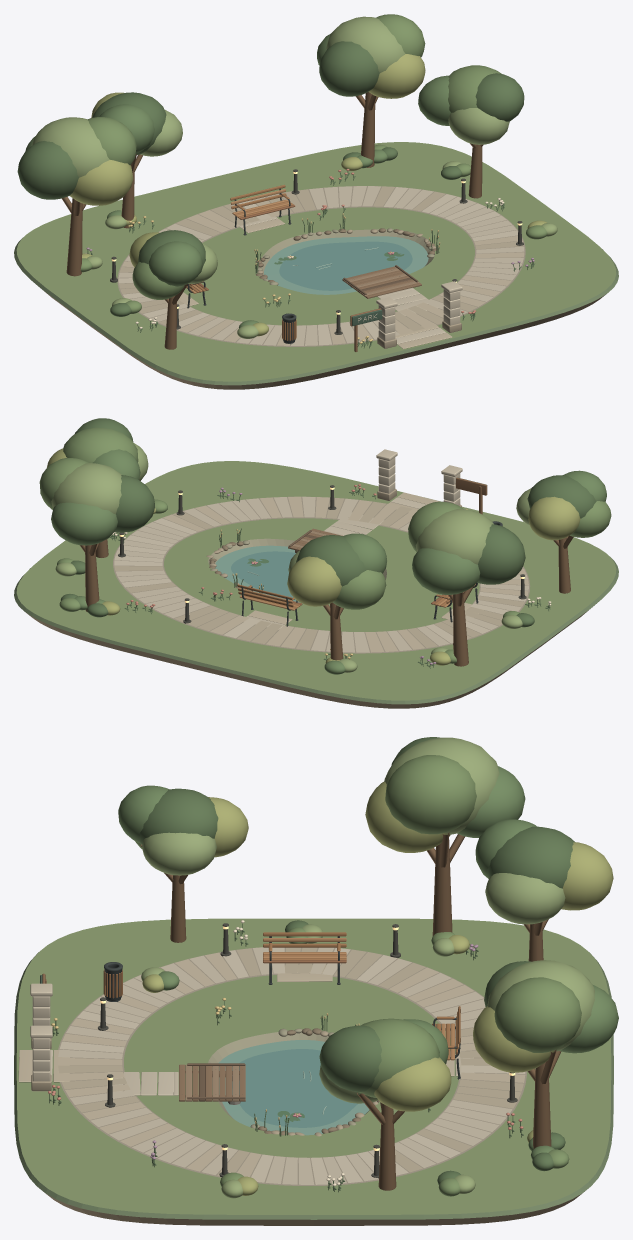
The model's file is park.glb.
3 views of the same model, one above another, from view 1: azimuth 30°, elevation 25°; view 2: azimuth 150°, elevation 25°; view 3: azimuth 270°, elevation 25° (orthographic). The views are drawn at different scales.
Parts seen in each view (by area): view 1: Park lawn and paths · Park · meadow green, Park trees and flowers · Park · canopy green 1, Park trees and flowers · Park · canopy green 3, Park lawn and paths · Park · pale stone 2, Park trees and flowers · Park · canopy green 2, Park trees and flowers · Park · canopy green 5, Park trees and flowers · Park · canopy green 4, Park lawn and paths · Park · pale stone 1, Pond, shore and lilies · Park · calm pond blue green, Park trees and flowers · Park · soft chestnut bark, Park lawn and paths · Park · pathway joints, Park lawn and paths · Park · pale stone 4 (+11 smaller); view 2: Park lawn and paths · Park · meadow green, Park trees and flowers · Park · canopy green 1, Park lawn and paths · Park · pale stone 2, Park trees and flowers · Park · canopy green 5, Park trees and flowers · Park · canopy green 2, Park trees and flowers · Park · canopy green 3, Park lawn and paths · Park · pale stone 1, Park trees and flowers · Park · canopy green 4, Park lawn and paths · Park · pale stone 4, Park lawn and paths · Park · pathway joints, Park trees and flowers · Park · soft chestnut bark, Park lawn and paths · Park · meadow edge (+11 smaller); view 3: Park lawn and paths · Park · meadow green, Park lawn and paths · Park · pale stone 2, Park trees and flowers · Park · canopy green 2, Park trees and flowers · Park · canopy green 3, Park trees and flowers · Park · canopy green 4, Park trees and flowers · Park · canopy green 1, Park lawn and paths · Park · pale stone 1, Park trees and flowers · Park · canopy green 5, Park lawn and paths · Park · pathway joints, Park trees and flowers · Park · soft chestnut bark, Pond, shore and lilies · Park · calm pond blue green, Park lawn and paths · Park · pale stone 4 (+11 smaller).
Boxes of the visible parts, box(x1,y1,x2,y2) form: Park lawn and paths · Park · meadow green: box(16, 142, 616, 381); Park trees and flowers · Park · canopy green 1: box(17, 41, 524, 316); Park trees and flowers · Park · canopy green 3: box(31, 16, 557, 338); Park lawn and paths · Park · pale stone 2: box(118, 186, 524, 345); Park trees and flowers · Park · canopy green 2: box(80, 14, 547, 313); Park trees and flowers · Park · canopy green 5: box(25, 34, 450, 328); Park trees and flowers · Park · canopy green 4: box(69, 54, 546, 336); Park lawn and paths · Park · pale stone 1: box(122, 197, 524, 349); Pond, shore and lilies · Park · calm pond blue green: box(279, 241, 412, 290); Park trees and flowers · Park · soft chestnut bark: box(62, 92, 483, 349); Park lawn and paths · Park · pathway joints: box(117, 186, 525, 346); Park lawn and paths · Park · pale stone 4: box(119, 186, 523, 331); Park lawn and paths · Park · meadow green: box(16, 461, 616, 700); Park trees and flowers · Park · canopy green 1: box(60, 418, 596, 627); Park lawn and paths · Park · pale stone 2: box(115, 496, 528, 652); Park trees and flowers · Park · canopy green 5: box(51, 449, 606, 674); Park trees and flowers · Park · canopy green 2: box(39, 427, 611, 663); Park trees and flowers · Park · canopy green 3: box(51, 443, 531, 672); Park lawn and paths · Park · pale stone 1: box(163, 492, 528, 652); Park trees and flowers · Park · canopy green 4: box(47, 448, 580, 665); Park lawn and paths · Park · pale stone 4: box(114, 498, 524, 649); Park lawn and paths · Park · pathway joints: box(113, 496, 530, 653); Park trees and flowers · Park · soft chestnut bark: box(80, 535, 573, 666); Park lawn and paths · Park · meadow edge: box(14, 557, 618, 704); Park lawn and paths · Park · meadow green: box(16, 918, 611, 1214); Park lawn and paths · Park · pale stone 2: box(58, 947, 512, 1184); Park trees and flowers · Park · canopy green 2: box(135, 755, 581, 1196); Park trees and flowers · Park · canopy green 3: box(141, 737, 594, 1198); Park trees and flowers · Park · canopy green 4: box(142, 781, 613, 1195); Park trees and flowers · Park · canopy green 1: box(139, 737, 574, 1184); Park lawn and paths · Park · pale stone 1: box(18, 952, 525, 1176); Park trees and flowers · Park · canopy green 5: box(118, 766, 618, 1159); Park lawn and paths · Park · pathway joints: box(58, 947, 526, 1185); Park trees and flowers · Park · soft chestnut bark: box(141, 832, 561, 1190); Pond, shore and lilies · Park · calm pond blue green: box(232, 1049, 357, 1127); Park lawn and paths · Park · pale stone 4: box(58, 947, 523, 1175).
Bounding box in the file's own units: 13.6 × 4.33 × 11.19.
